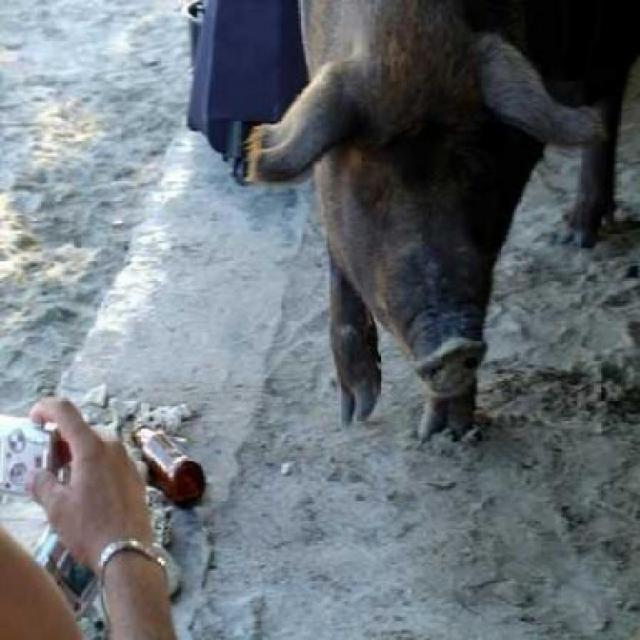pig: (221, 0, 587, 457)
